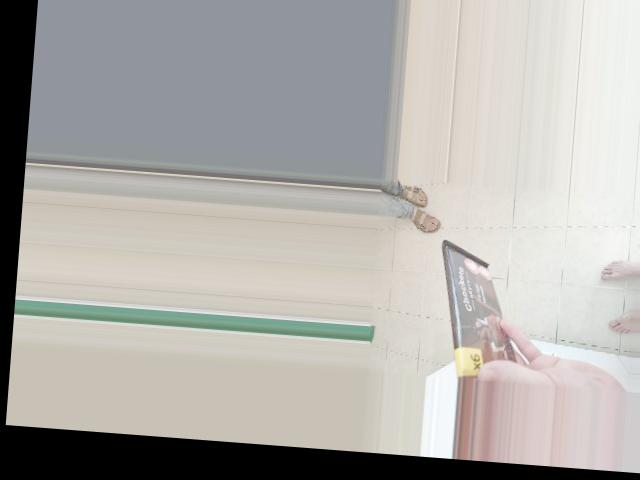chocolate: (424, 207, 574, 331)
